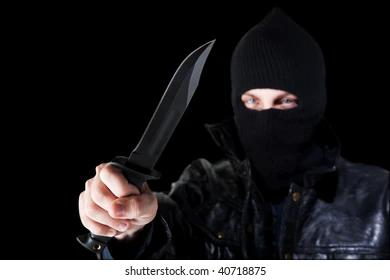Knife: (79, 4, 390, 259), (119, 40, 218, 182), (79, 159, 159, 240)
